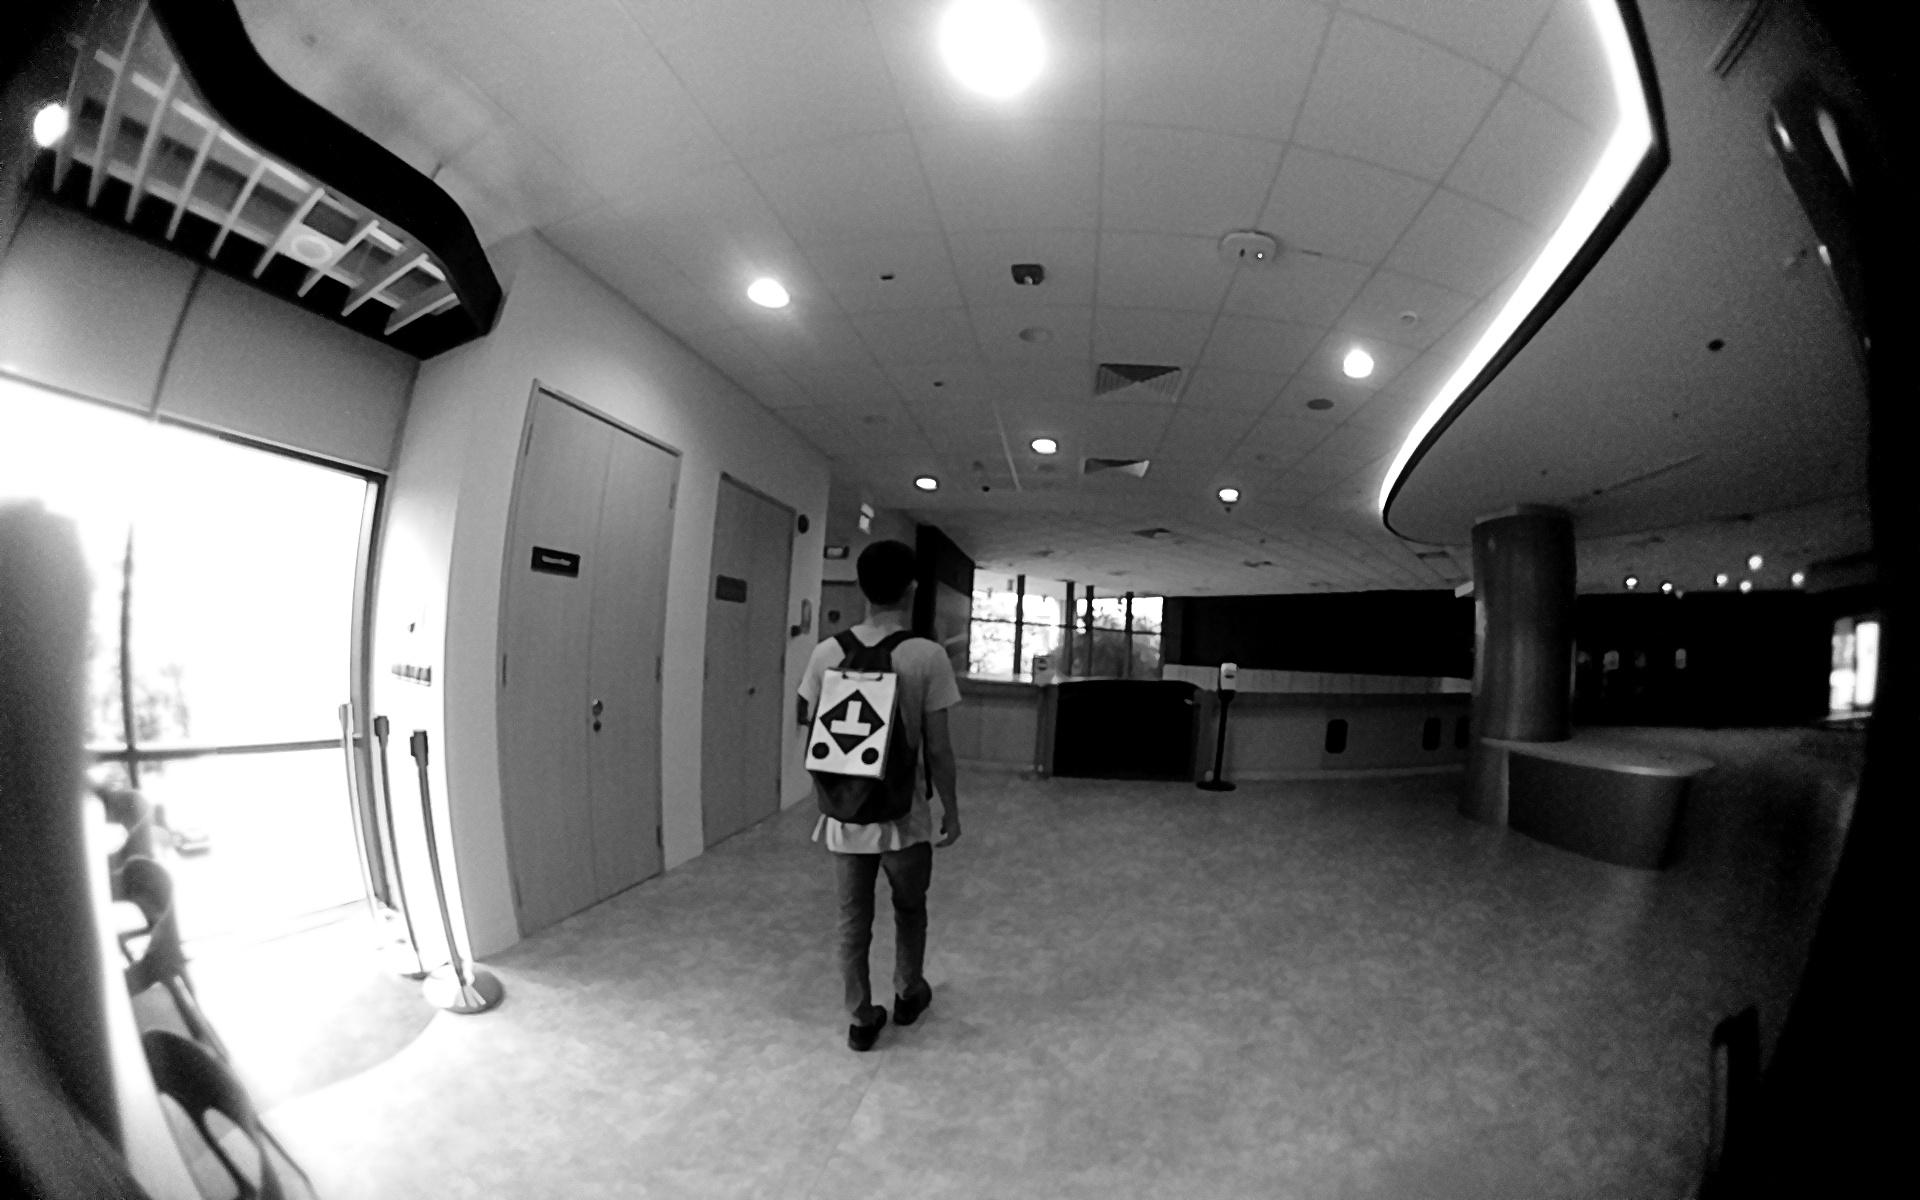continue_forward: (809, 683, 893, 769)
